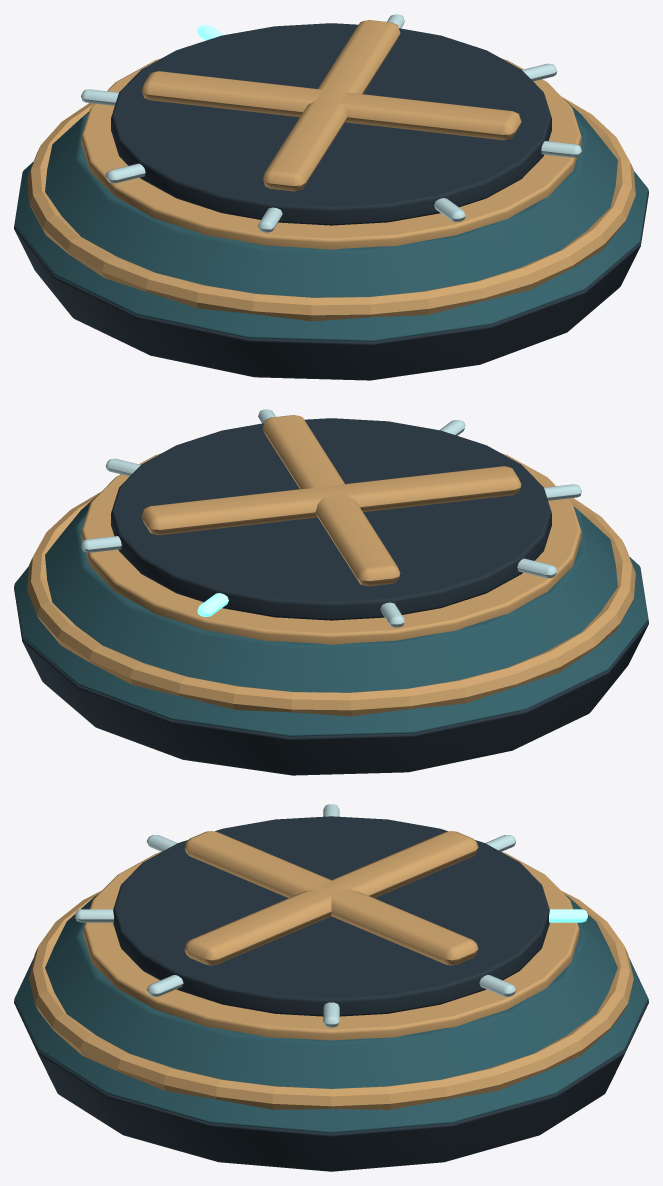
Rendered from occupiedSquare.glb.
3 views of the same model, one above another, from view 1: azimuth 30°, elevation 25°; view 2: azimuth 150°, elevation 25°; view 3: azimuth 270°, elevation 25° (orthographic).
Visible parts, largest first — view 1: occupiedSquare; view 2: occupiedSquare; view 3: occupiedSquare.
Part boxes in pixels (left/top/right/bottom): occupiedSquare: left=14, top=14, right=648, bottom=380; occupiedSquare: left=14, top=409, right=648, bottom=775; occupiedSquare: left=14, top=804, right=648, bottom=1171.
Bounding box in the file's own units: 1.08 × 0.2975 × 1.08.
